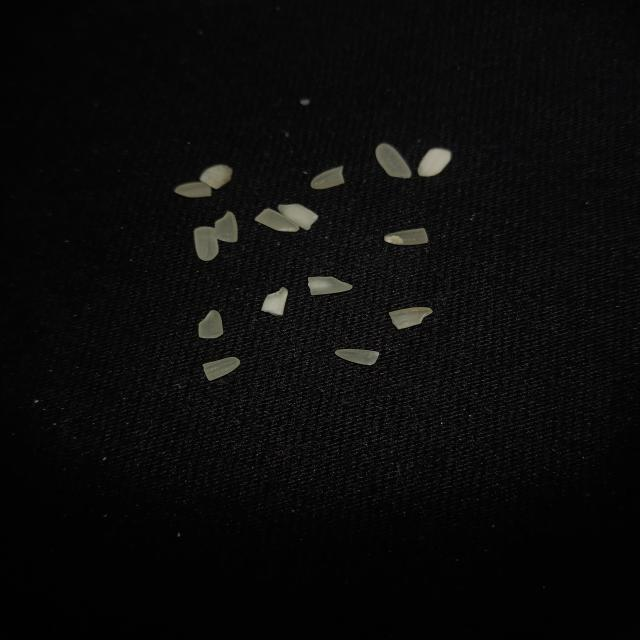Broken: (254, 208, 298, 232), (278, 204, 318, 230), (418, 148, 452, 178), (388, 307, 432, 329), (193, 226, 219, 262), (202, 357, 240, 381), (308, 276, 352, 296), (200, 164, 232, 190), (310, 166, 344, 190), (334, 348, 378, 366), (384, 228, 428, 245), (198, 310, 224, 338), (262, 288, 288, 316), (214, 212, 238, 242), (174, 182, 212, 198)
Full: (374, 142, 410, 178)
